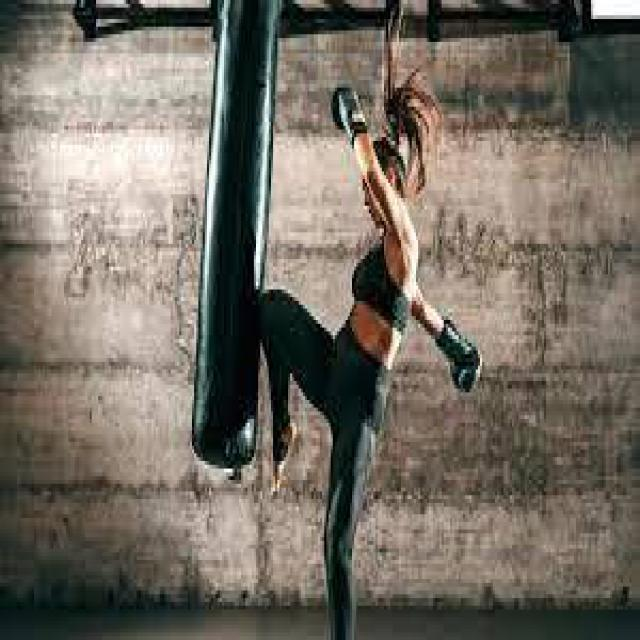Punching Bag: (179, 0, 297, 480)
